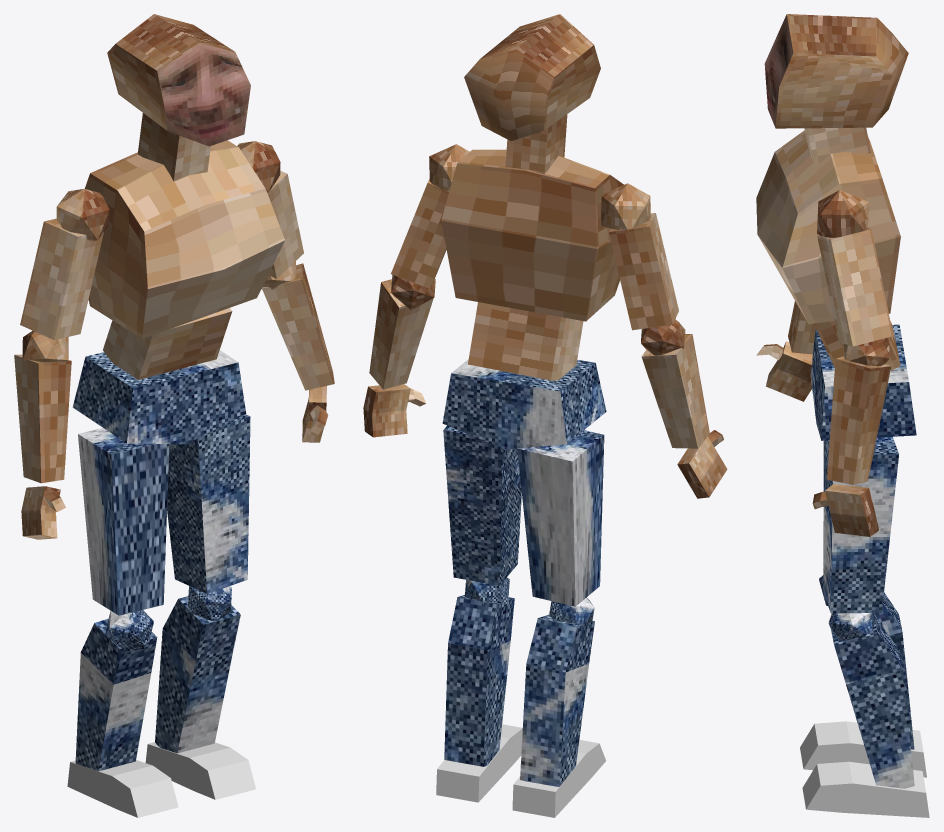
Rendered from DRUGGIE.fbx.
3 views of the same model, side by side, from view 1: azimuth 30°, elevation 25°; view 2: azimuth 150°, elevation 25°; view 3: azimuth 270°, elevation 25° (orthographic). The views are drawn at different scales.
Visible parts, largest first — view 1: Cube.002, Cube.016, Cube.001, Cube.013, Cube.020, Cube.014, Cube.017, Cube.021, Cube.011, Cube.019, Cube.006, Cube.018 (+10 smaller); view 2: Cube.002, Cube.016, Cube.001, Cube.020, Cube.013, Cube.014, Cube.017, Cube.019, Cube.021, Cube.011, Cube.006, Cube.003 (+11 smaller); view 3: Cube.001, Cube.002, Cube.014, Cube.013, Cube.003, Cube.006, Cube.015, Cube.020, Cube.018, Cube.004, Cube.012, Cube.007 (+6 smaller).
Boxes of the visible parts, box(x1,y1,x2,y2) form: Cube.002: box(84, 140, 284, 338); Cube.016: box(78, 428, 169, 615); Cube.001: box(107, 14, 250, 146); Cube.013: box(167, 414, 250, 593); Cube.020: box(72, 350, 246, 444); Cube.014: box(155, 596, 240, 753); Cube.017: box(75, 618, 157, 771); Cube.021: box(20, 218, 103, 340); Cube.011: box(14, 354, 71, 483); Cube.019: box(103, 308, 232, 379); Cube.006: box(262, 263, 334, 390); Cube.018: box(67, 760, 178, 817); Cube.002: box(441, 149, 623, 321); Cube.016: box(517, 430, 604, 606); Cube.001: box(464, 14, 600, 141); Cube.020: box(442, 359, 606, 449); Cube.013: box(443, 425, 521, 585); Cube.014: box(444, 594, 514, 766); Cube.017: box(520, 614, 594, 786); Cube.019: box(468, 302, 583, 380); Cube.021: box(609, 213, 678, 330); Cube.011: box(641, 334, 709, 448); Cube.006: box(369, 279, 433, 389); Cube.003: box(391, 179, 448, 288); Cube.001: box(764, 14, 908, 128); Cube.002: box(756, 130, 900, 324); Cube.014: box(831, 613, 914, 788); Cube.013: box(823, 436, 898, 613); Cube.003: box(817, 228, 893, 346); Cube.006: box(827, 356, 891, 484); Cube.015: box(802, 761, 929, 817); Cube.020: box(810, 324, 916, 440); Cube.018: box(800, 721, 926, 777); Cube.004: box(812, 484, 878, 536); Cube.012: box(756, 341, 812, 401); Cube.007: box(817, 190, 868, 237).
Bounding box in the file's own units: 103 × 231 × 46.73.
Materials: 4 (4 with a texture image).
